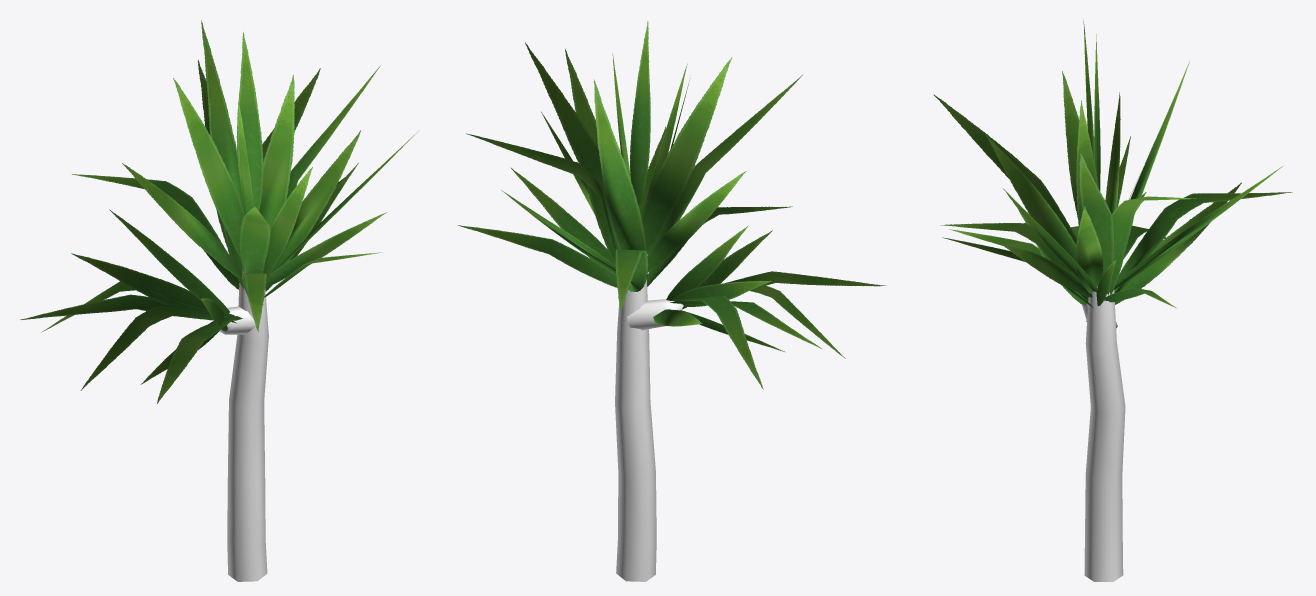
Rendered from SM_YuccaTree01.fbx.
3 views of the same model, side by side, from view 1: azimuth 30°, elevation 25°; view 2: azimuth 150°, elevation 25°; view 3: azimuth 270°, elevation 25° (orthographic). The views are drawn at different scales.
Visible parts, largest first — view 1: SM_YuccaTree01; view 2: SM_YuccaTree01; view 3: SM_YuccaTree01.
Boxes of the visible parts, x1,y1,x2,y2 form: SM_YuccaTree01: [20, 20, 419, 581]; SM_YuccaTree01: [457, 21, 886, 581]; SM_YuccaTree01: [933, 18, 1292, 581].
Bounding box in the file's own units: 165 × 243 × 155.
